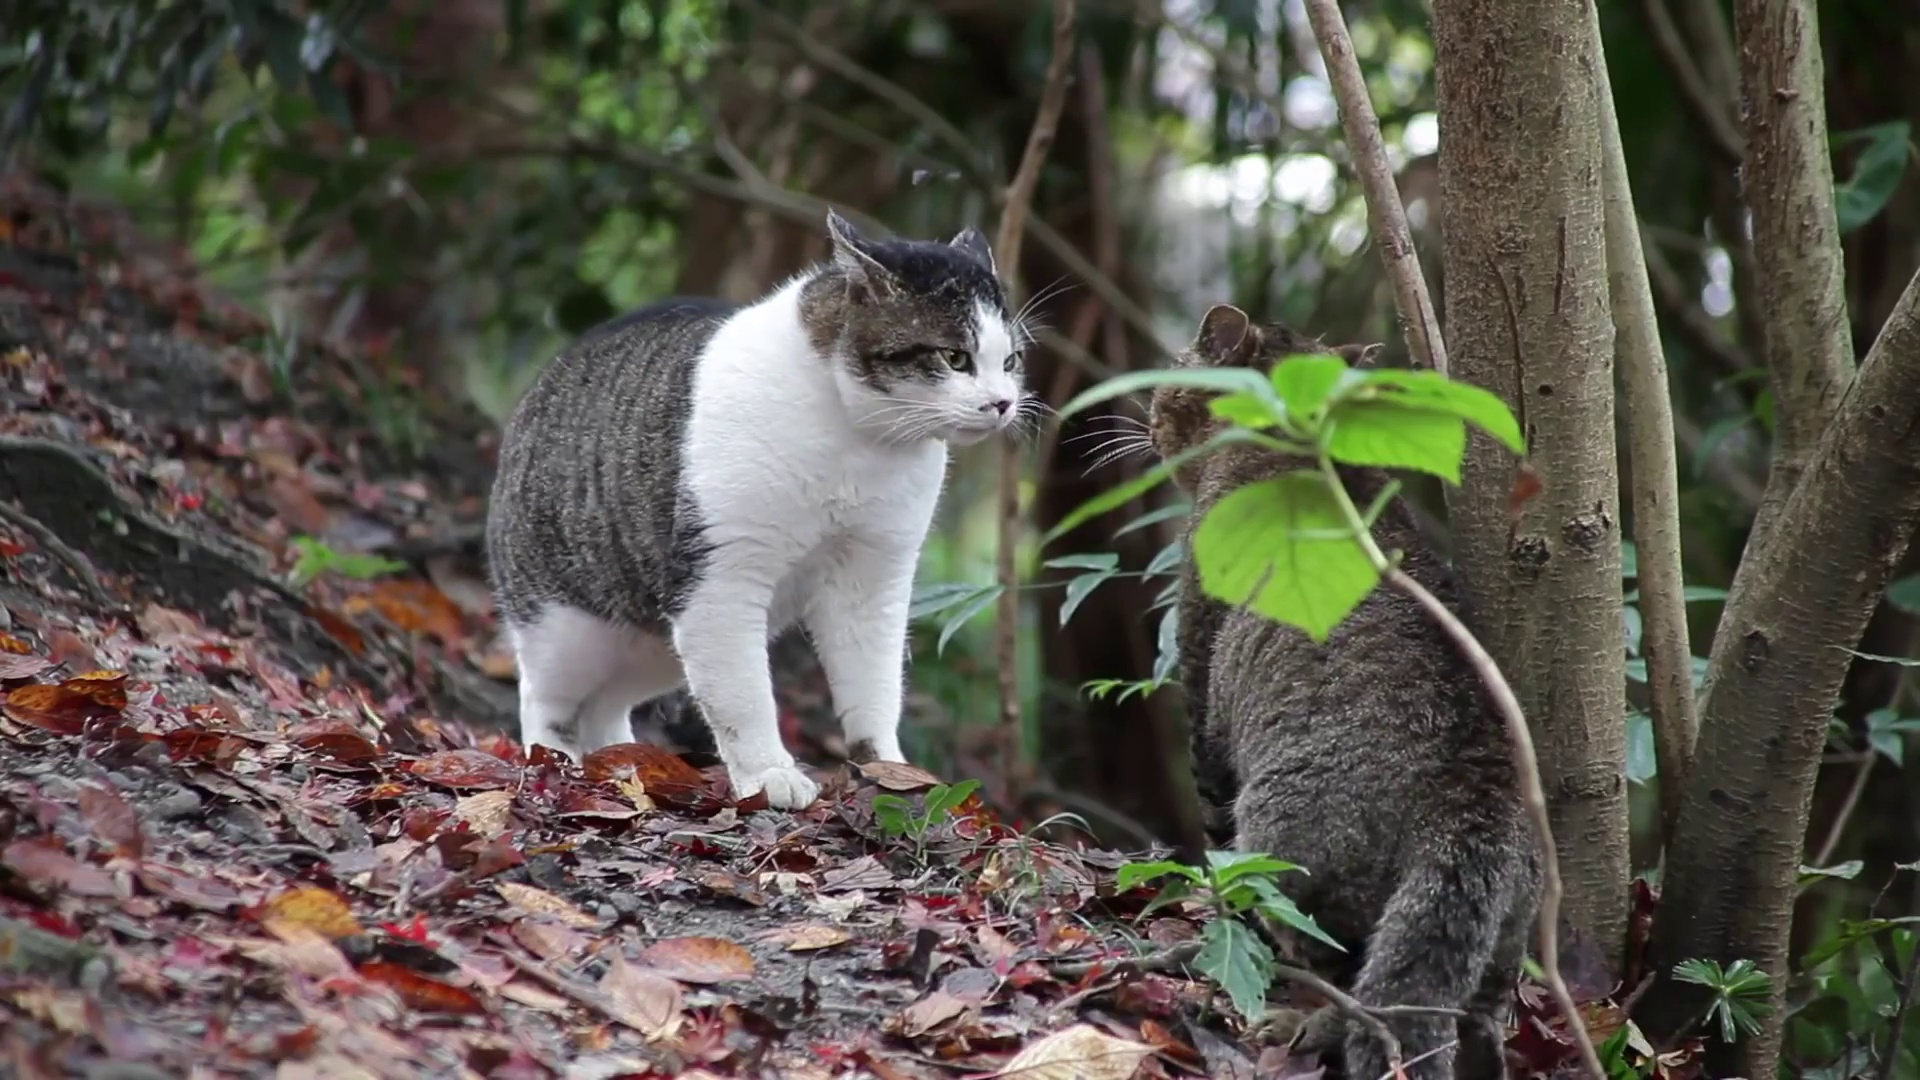black-white: (485, 208, 1022, 812)
pure black: (1142, 302, 1545, 1080)
